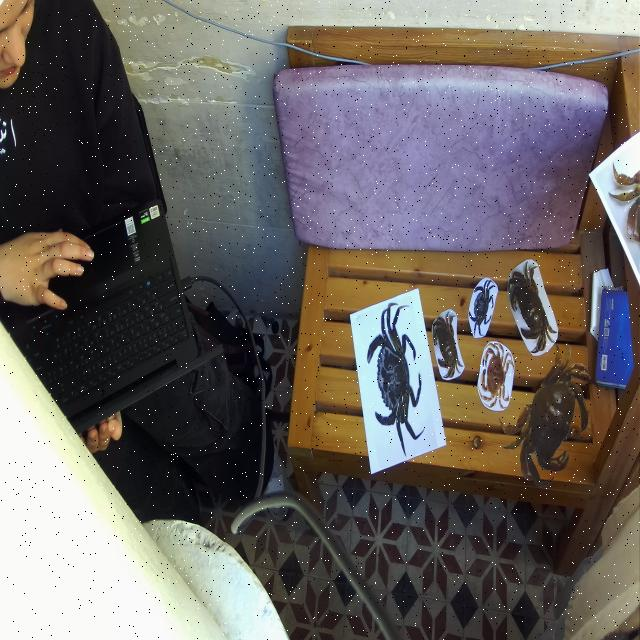European_Green_Crab: (360, 294, 432, 468), (465, 271, 499, 345)
